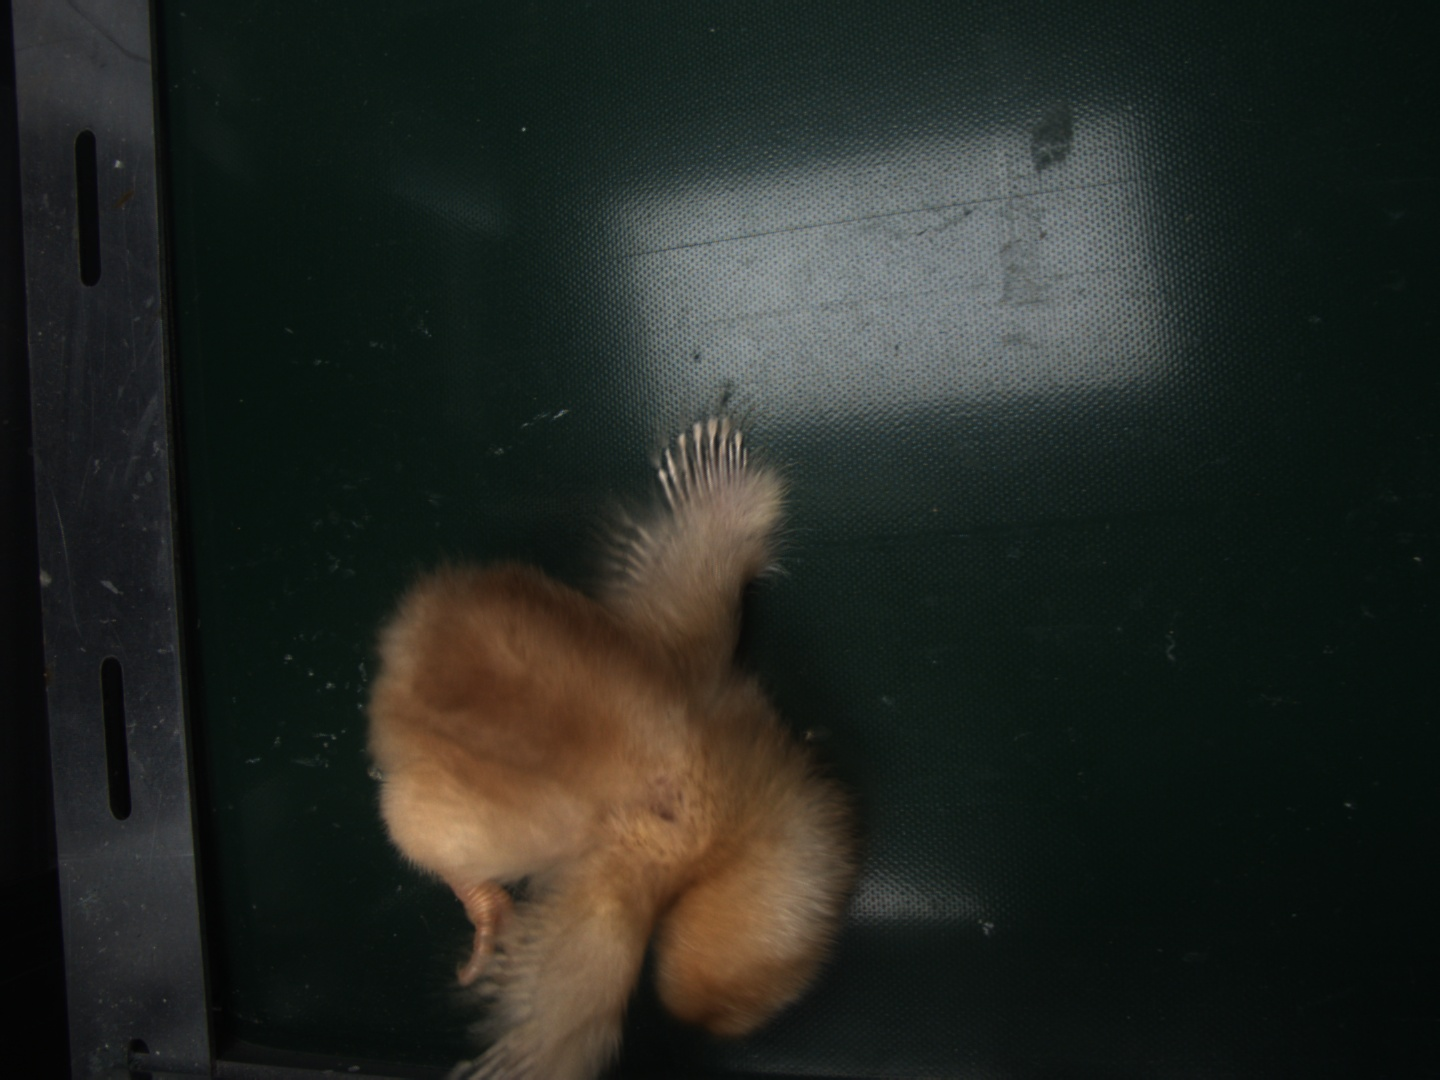female: (655, 416, 752, 518)
